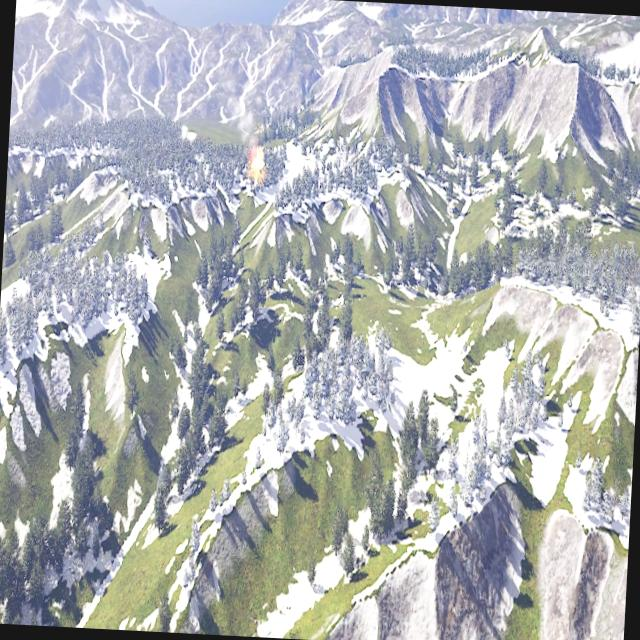fire: (250, 146, 266, 174)
smoke: (227, 91, 259, 149)
